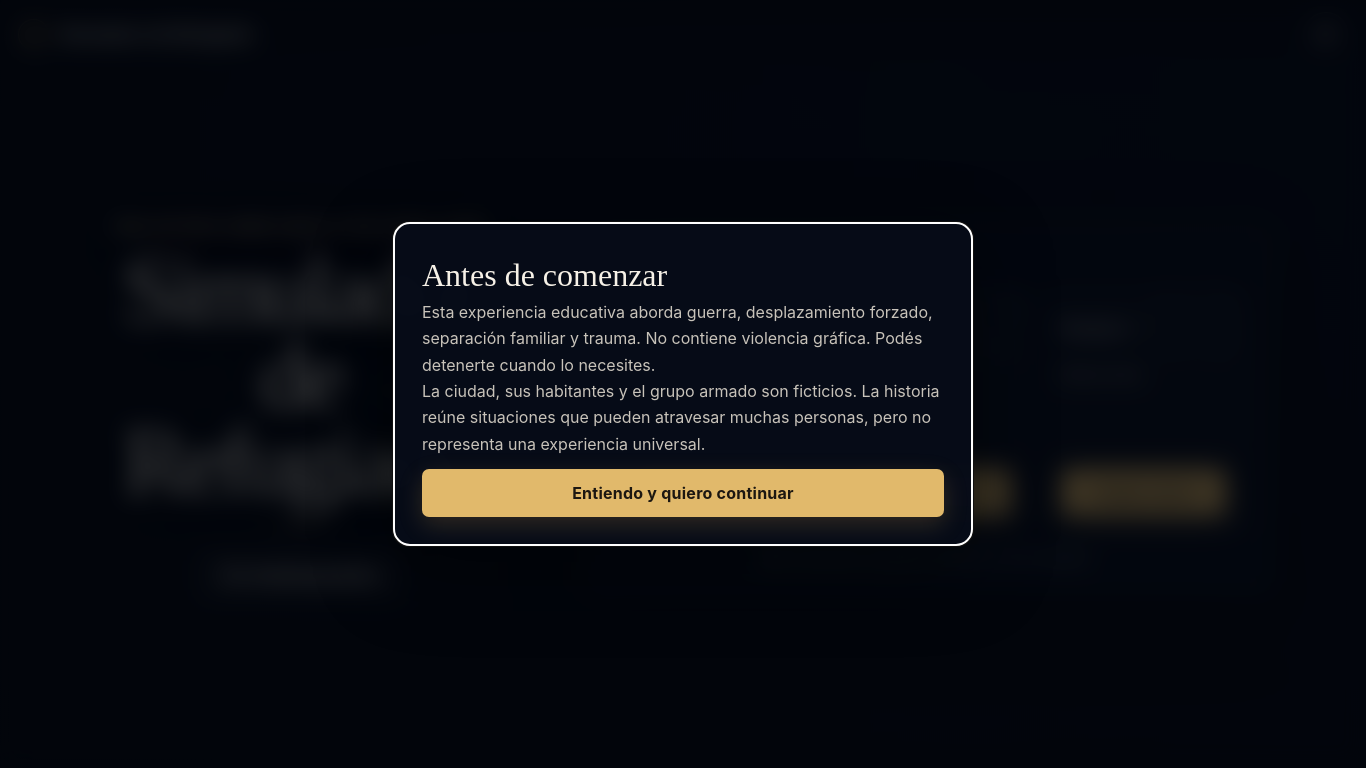
Test: content warning storage › allows acceptance when session storage is unavailable
Click the button "Entiendo y quiero continuar".
click(683, 493)  # box [422,469,944,517]
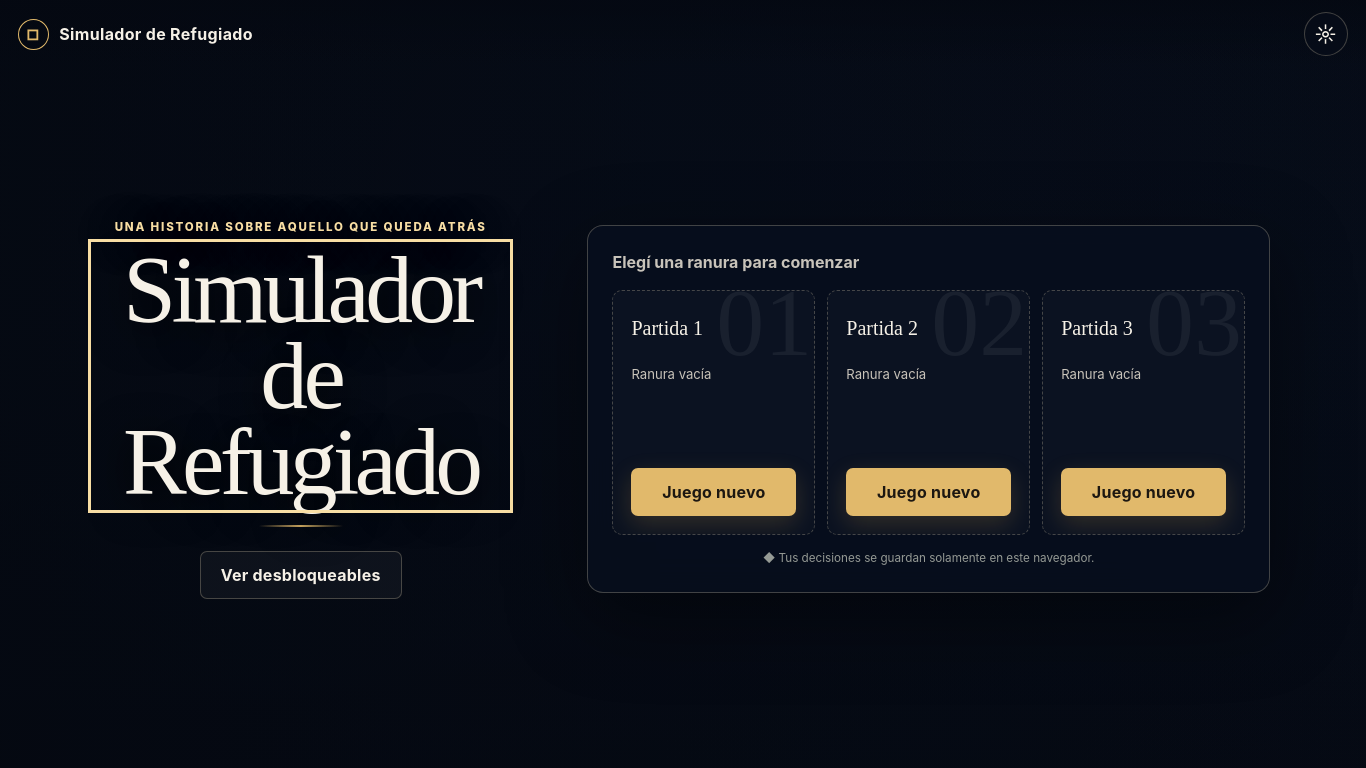
Expected: the button "Entiendo y quiero continuar" is gone
